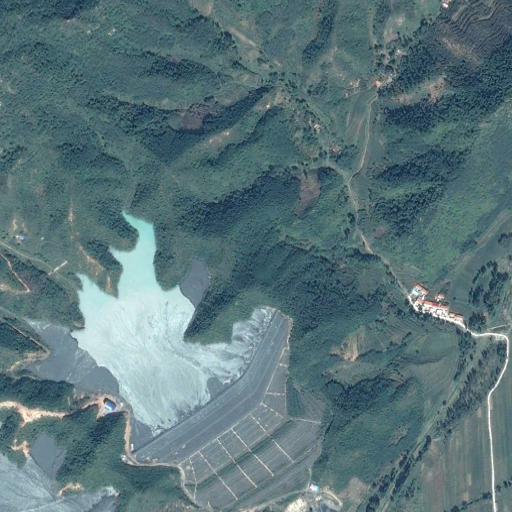tp: (27, 206, 324, 512)
